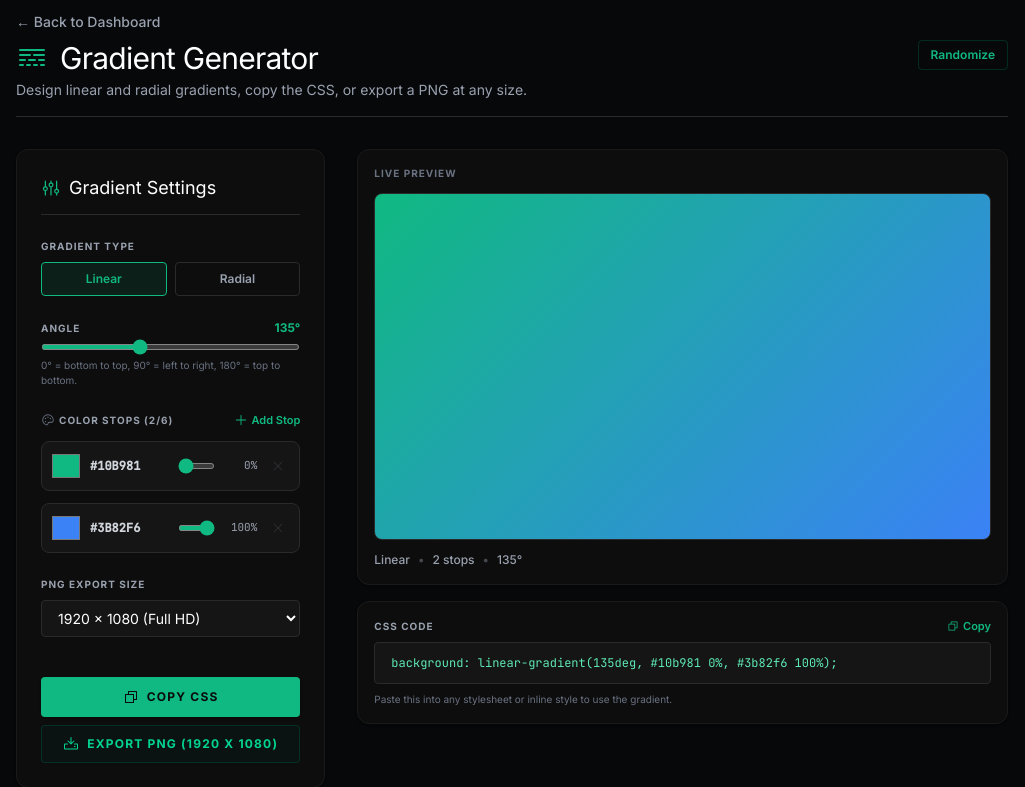
gradient-generator component › adds a color stop and updates the CSS
Click the button "Add Stop" at (267, 420), box [234,412,300,428]
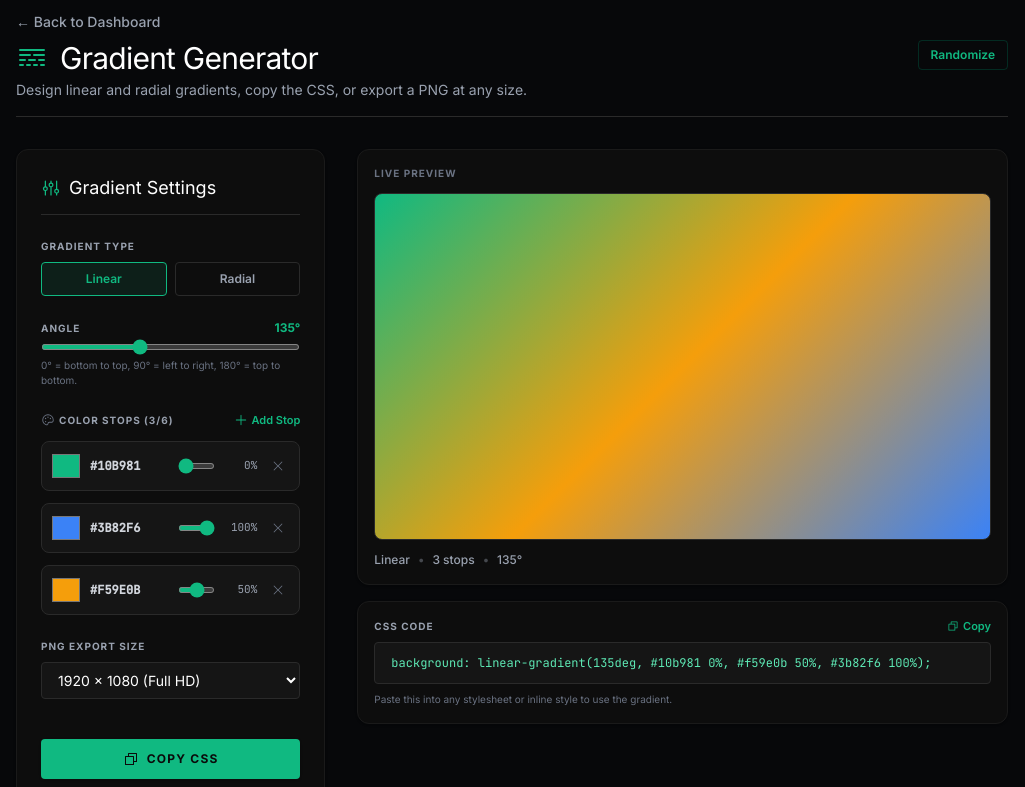
Result: the text "Color Stops (3/6)" is shown at [41,413,174,428]
Result: the text with test id "gradient-css" shows "#f59e0b 50%" at [391,655,931,671]
